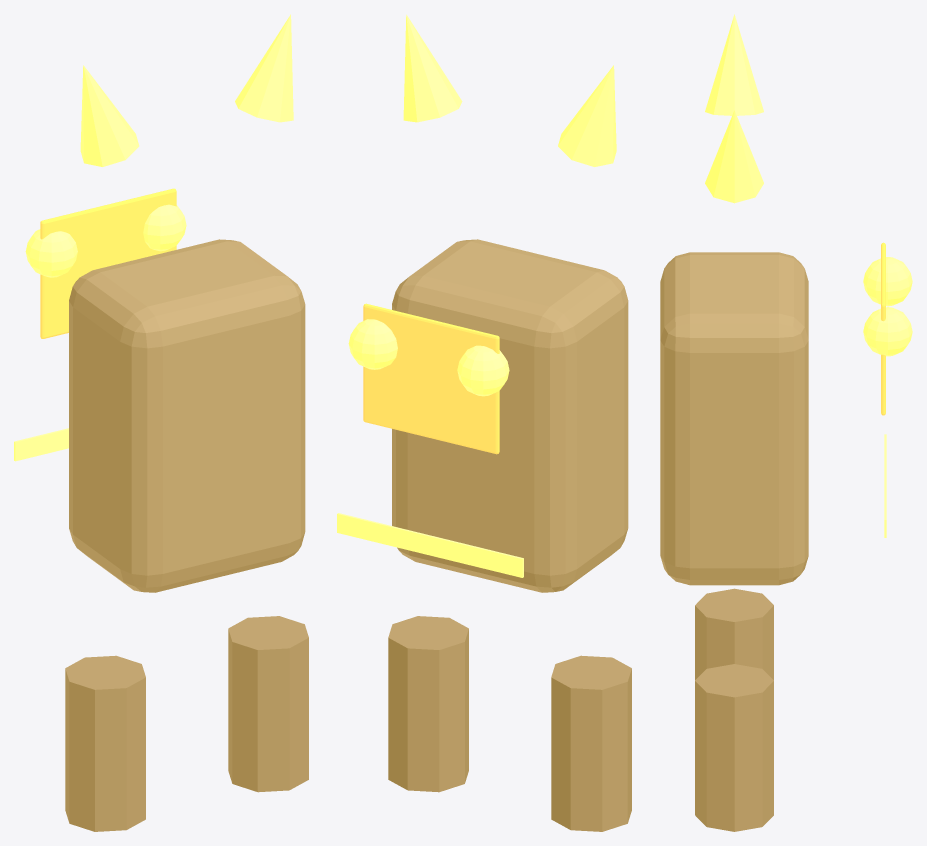
Rendered from sudo.glb.
3 renders of one model, left to right at view 1: azimuth 30°, elevation 25°; view 2: azimuth 150°, elevation 25°; view 3: azimuth 270°, elevation 25°, orthographic. The views are drawn at different scales.
Visible parts, largest first — view 1: sudo; view 2: sudo; view 3: sudo.
Boxes of the visible parts, x1,y1,x2,y2 form: sudo: [14, 14, 308, 831]; sudo: [337, 14, 631, 831]; sudo: [660, 14, 912, 831].
Size of the model in its own units: 0.52 by 1.6 by 0.51.
